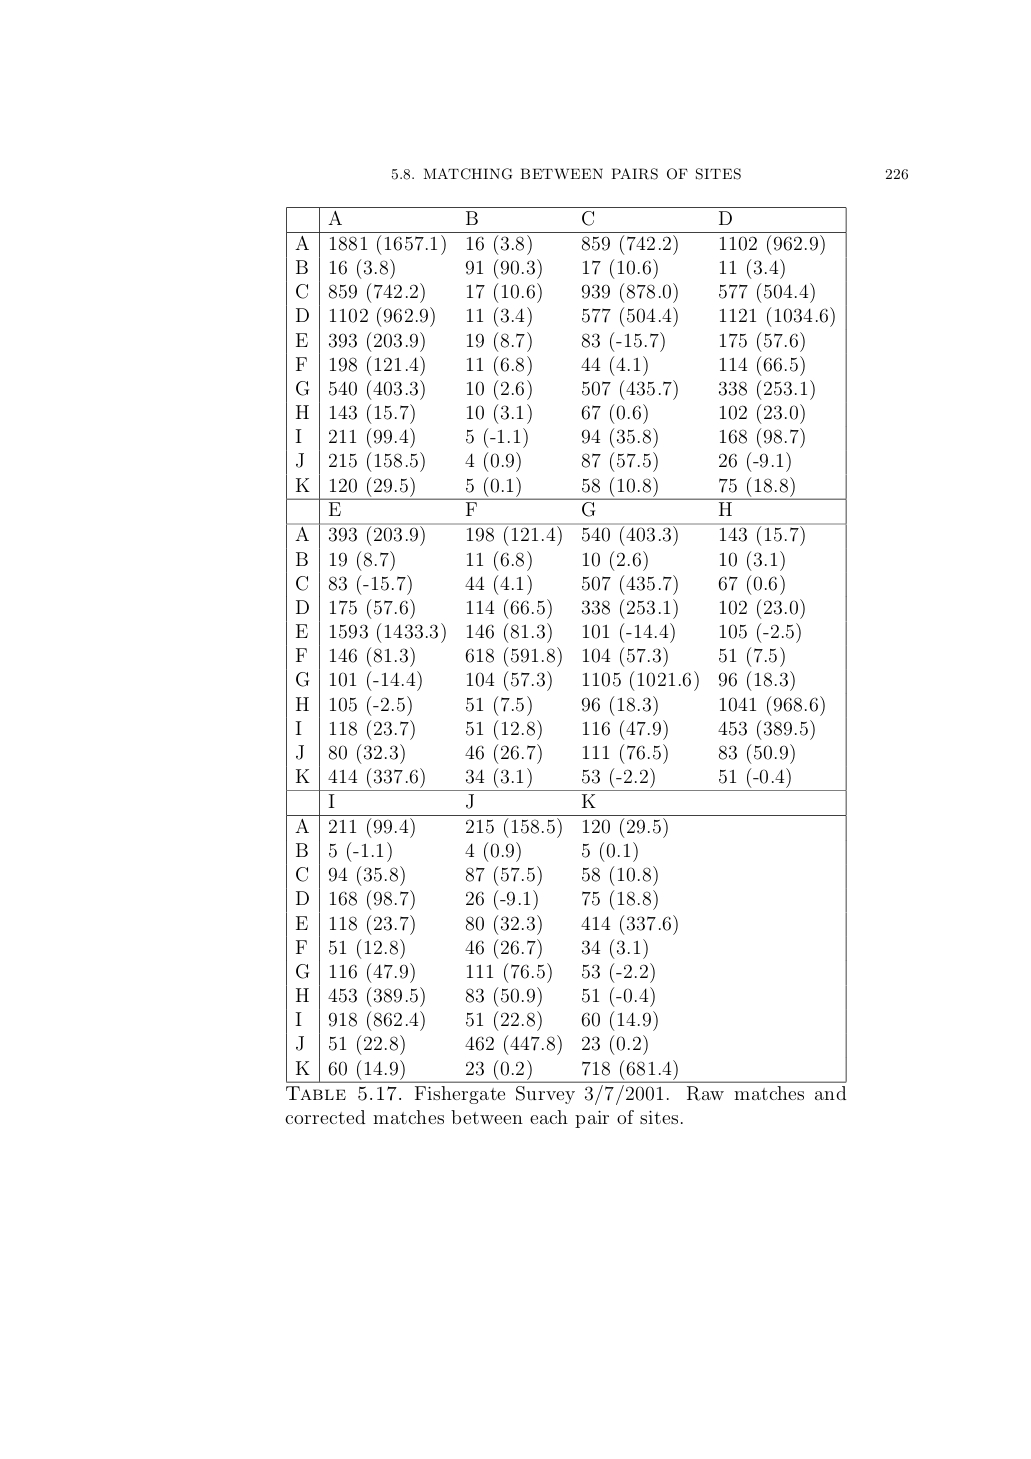Table: (286, 207, 846, 1082)
